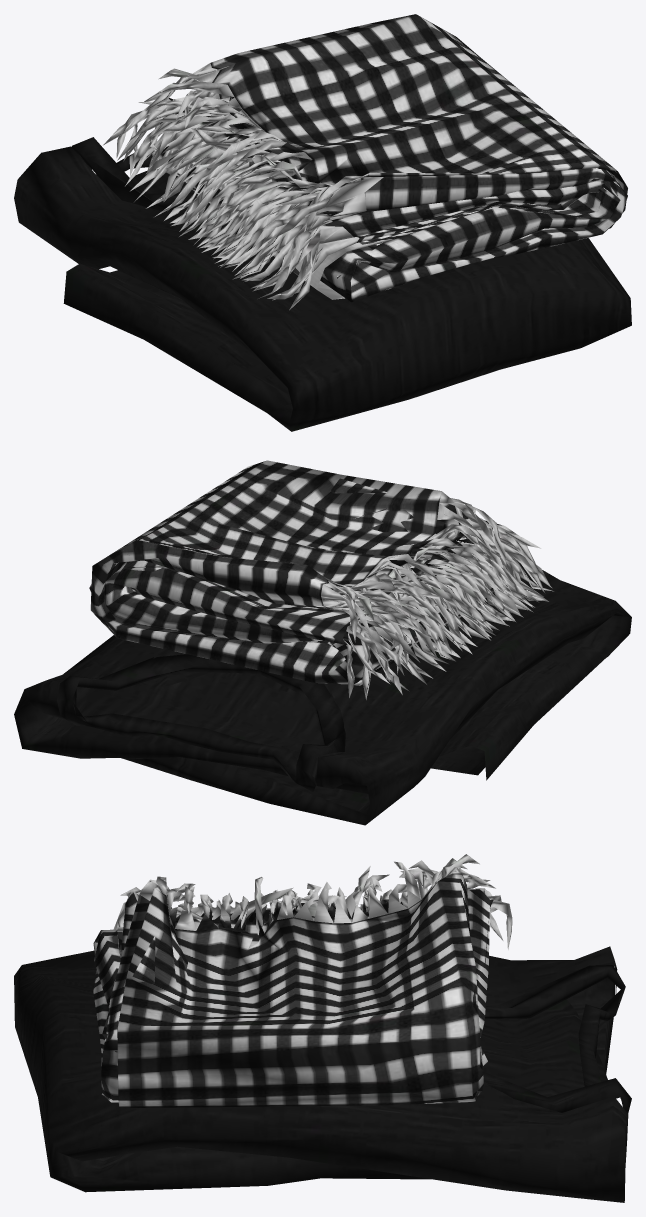
Rendered from hvfold_Clothes_acc_02.glb.
3 renders of one model, top to bottom at view 1: azimuth 30°, elevation 25°; view 2: azimuth 150°, elevation 25°; view 3: azimuth 270°, elevation 25°, orthographic. The views are drawn at different scales.
Visible parts, largest first — view 1: BP_Clothes_acc_02; view 2: BP_Clothes_acc_02; view 3: BP_Clothes_acc_02.
Boxes of the visible parts, left/top/right/bottom form: BP_Clothes_acc_02: left=14, top=14, right=631, bottom=431; BP_Clothes_acc_02: left=14, top=460, right=631, bottom=825; BP_Clothes_acc_02: left=14, top=854, right=631, bottom=1202.
Size of the model in its own units: 0.3176 by 0.1442 by 0.3767.
3 materials, 3 textured.
